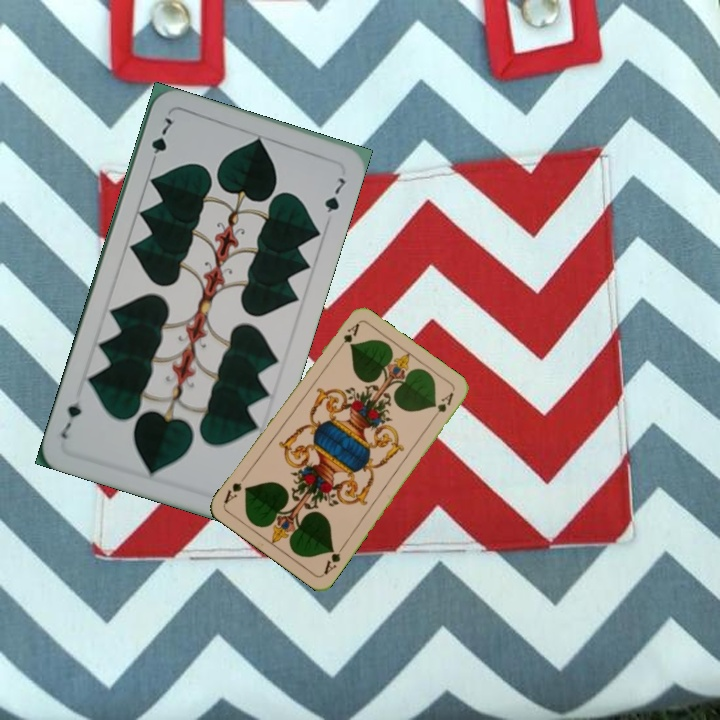G7: (146, 113, 175, 169)
GA: (333, 319, 362, 354), (319, 541, 347, 577)
